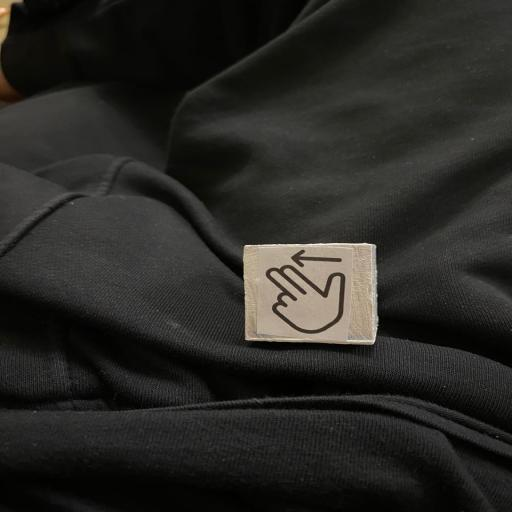LeftSwipe: (240, 240, 378, 344)
